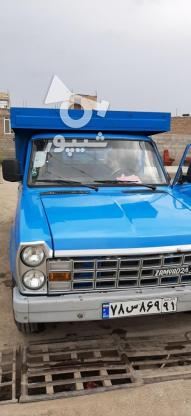car: (99, 297, 176, 319)
